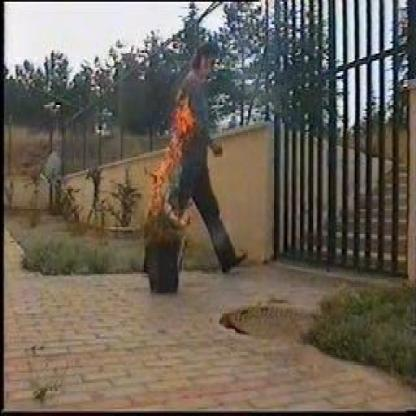foggia-v2-map80-epoch100 - v1 4323: (147, 104, 190, 201)
